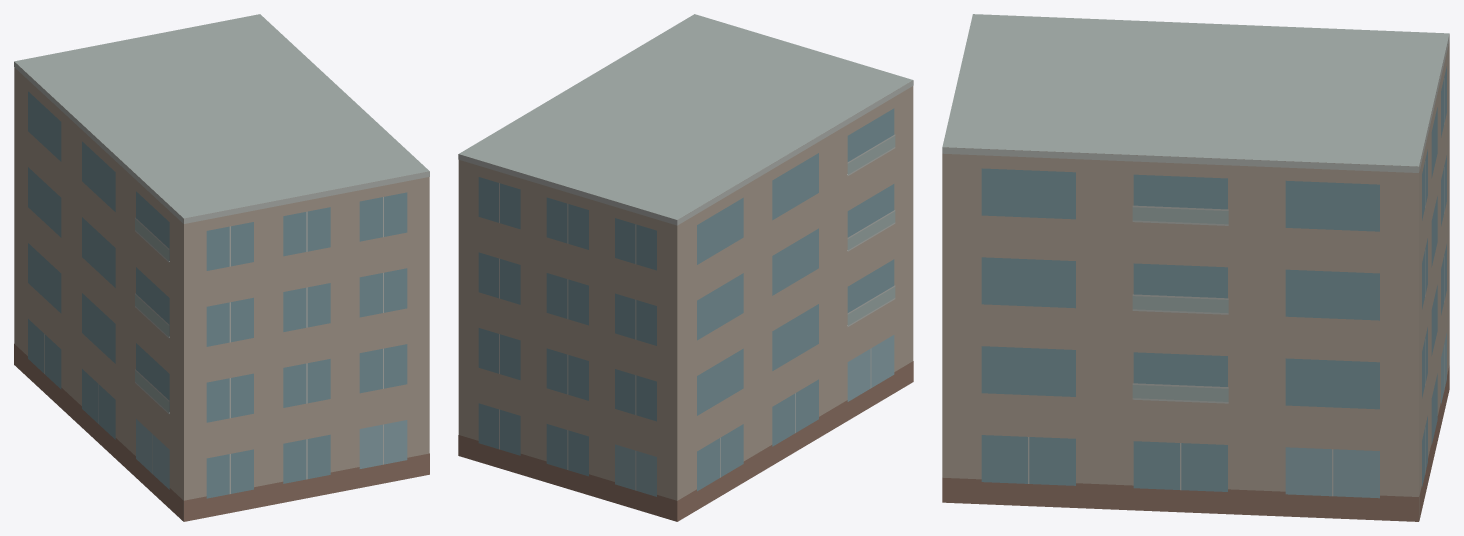
Rendered from survey-upis-32798497.glb.
The picture shows the model from 3 angles, left to right: view 1: azimuth 30°, elevation 25°; view 2: azimuth 150°, elevation 25°; view 3: azimuth 270°, elevation 25°; orthographic projection. The views are drawn at different scales.
Parts seen in each view (by area): view 1: survey-upis-32798497.tmp; view 2: survey-upis-32798497.tmp; view 3: survey-upis-32798497.tmp.
Boxes of the visible parts, x1,y1,x2,y2 form: survey-upis-32798497.tmp: [14, 14, 429, 521]; survey-upis-32798497.tmp: [458, 14, 913, 521]; survey-upis-32798497.tmp: [942, 14, 1449, 521].
Bounding box in the file's own units: 12.16 × 13.2 × 17.09.
